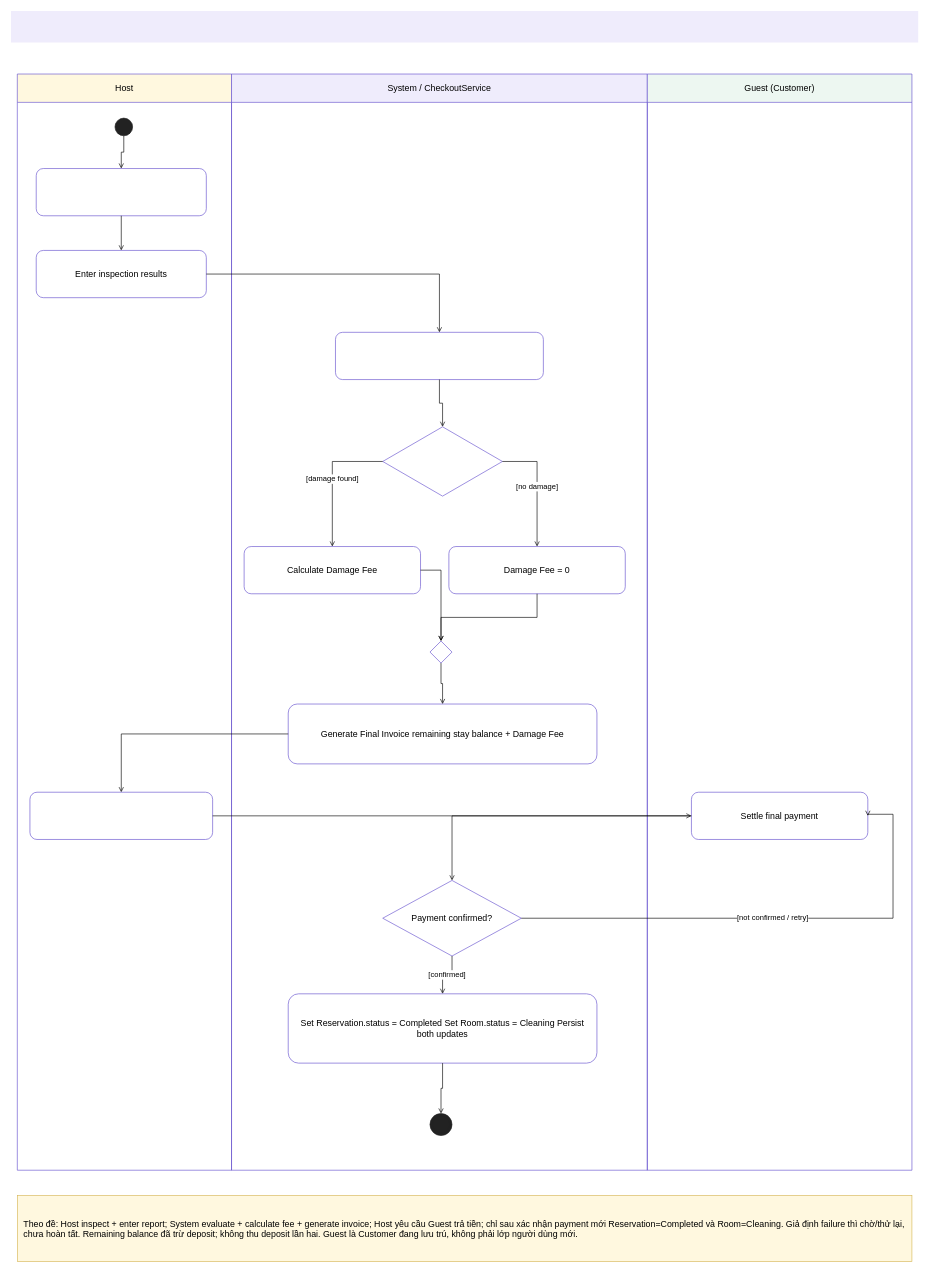
This 929x1273 diagram has some shape labels left out. The centre of each missing label's shape, as x and y in pixels:
"Damage found?" goes at point 442,461.
"Evaluate inspection report" goes at point 439,356.
"Inspect room condition" goes at point 121,192.
"Request Guest to settle payment" goes at point 121,815.
"StayEase · Q3 Check-out and Inspection · Level 2 – Design (3.0 points)" goes at point 464,26.
